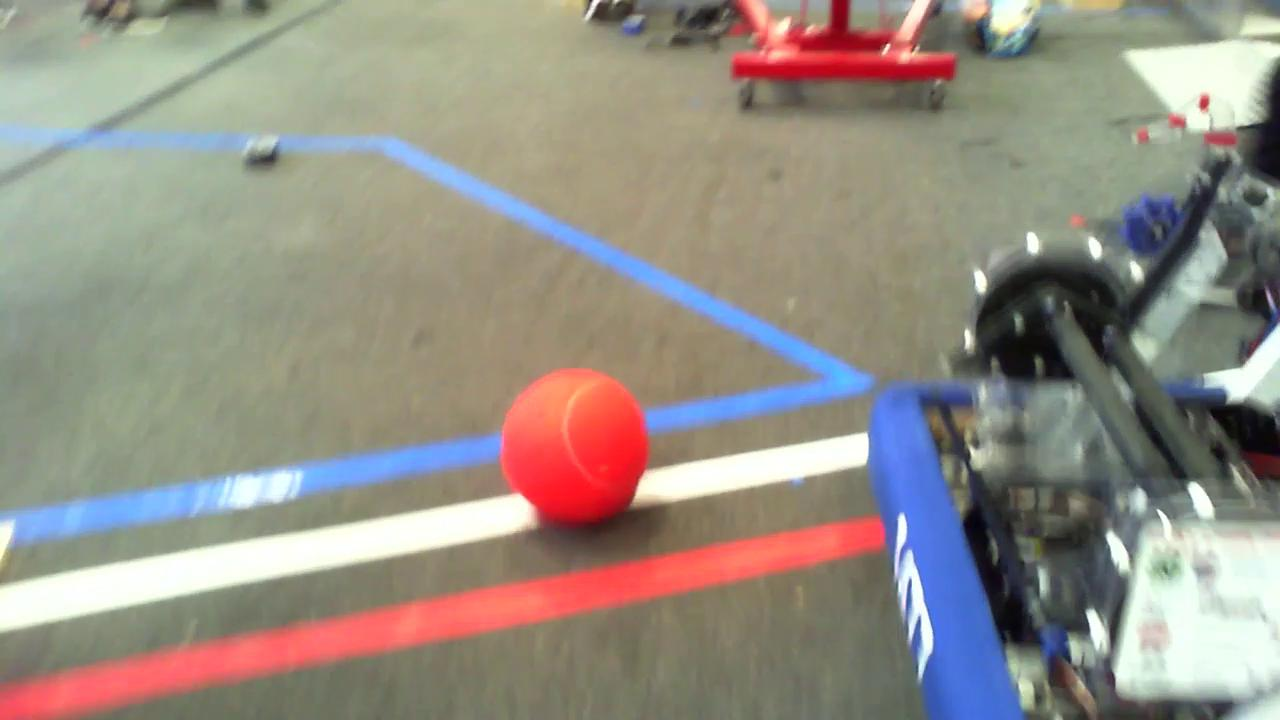Red_Ball: (481, 362, 673, 531)
